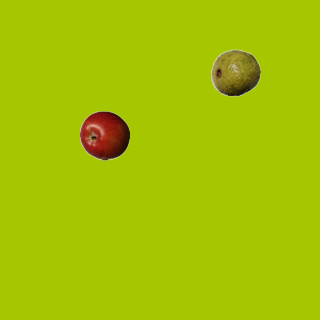Apple Braeburn: (79, 110, 129, 160)
Guava: (210, 47, 260, 97)
